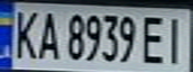3: (100, 11, 121, 63)
8: (63, 9, 84, 62)
9: (118, 11, 142, 64), (81, 11, 103, 62)
A: (33, 7, 63, 61)
E: (139, 12, 172, 65)
I: (160, 12, 193, 66)
K: (9, 7, 42, 61)
